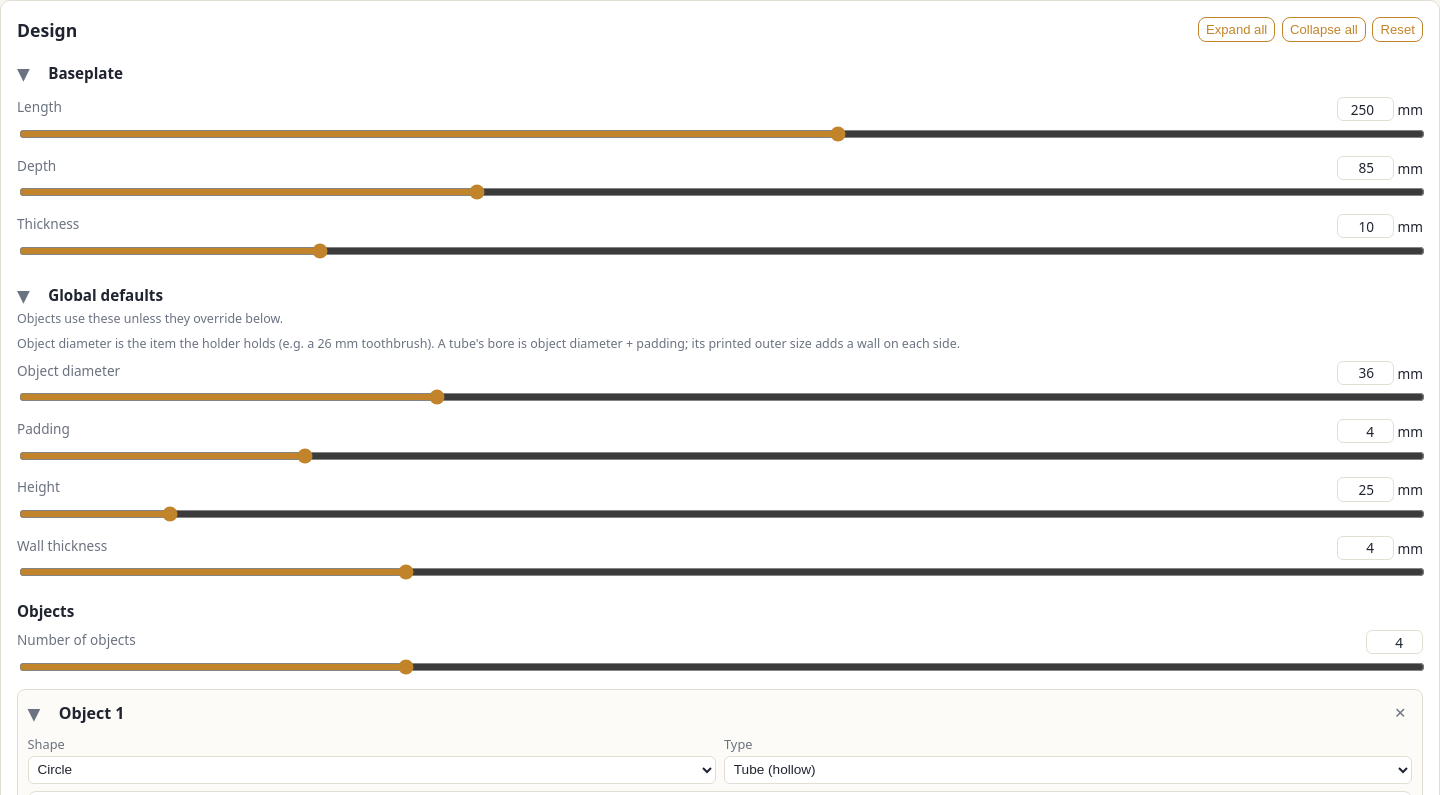
ParameterControls collapsing › Collapse all closes every panel, and panels can reopen individually
Click the button "Collapse all": click(1324, 30) [1282,17,1366,42]
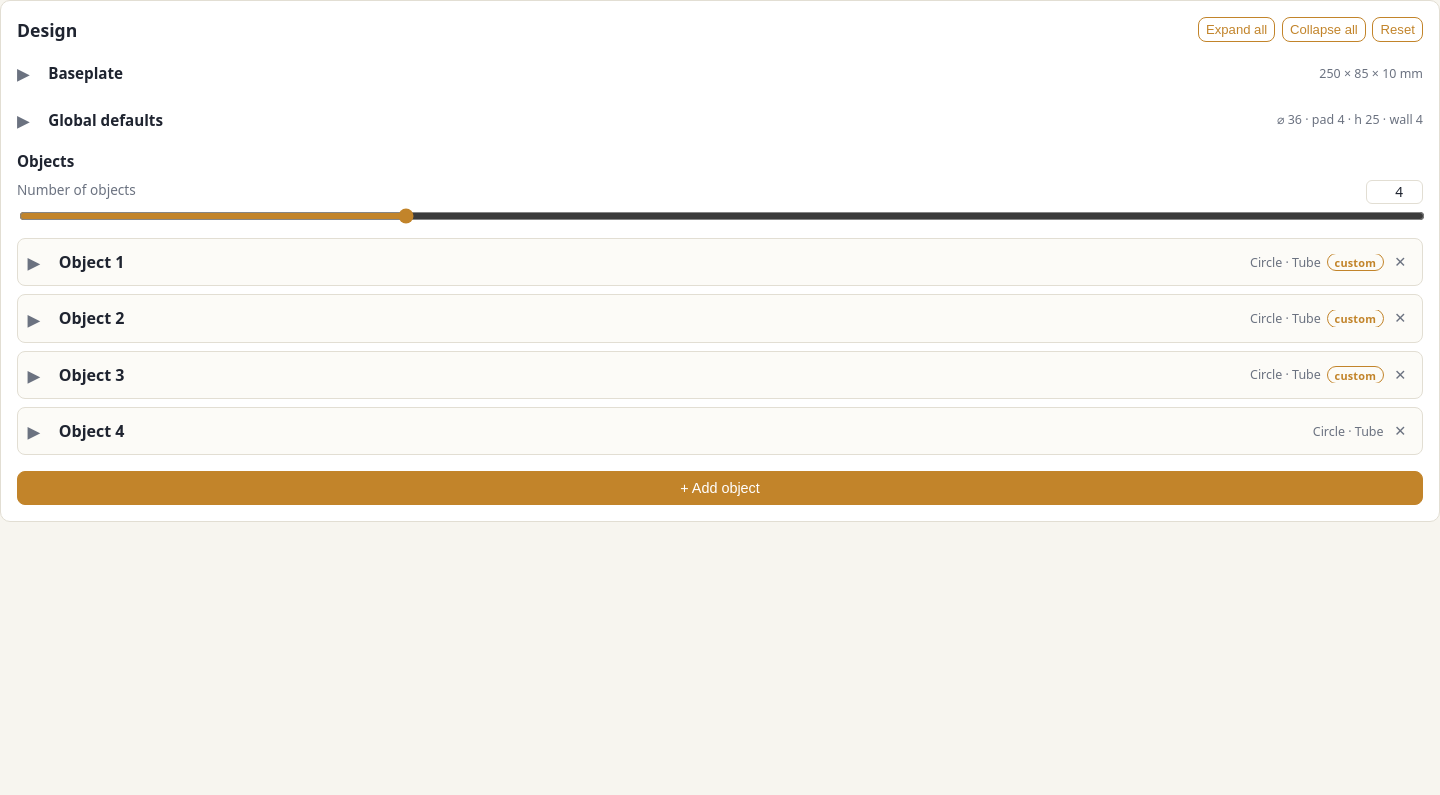
Expected: the field labelled "Length" is gone
// A single panel can still be reopened afterwards.
Click the button "▸ Baseplate 250 × 85 × 10 mm": click(86, 73) [17,58,1423,88]
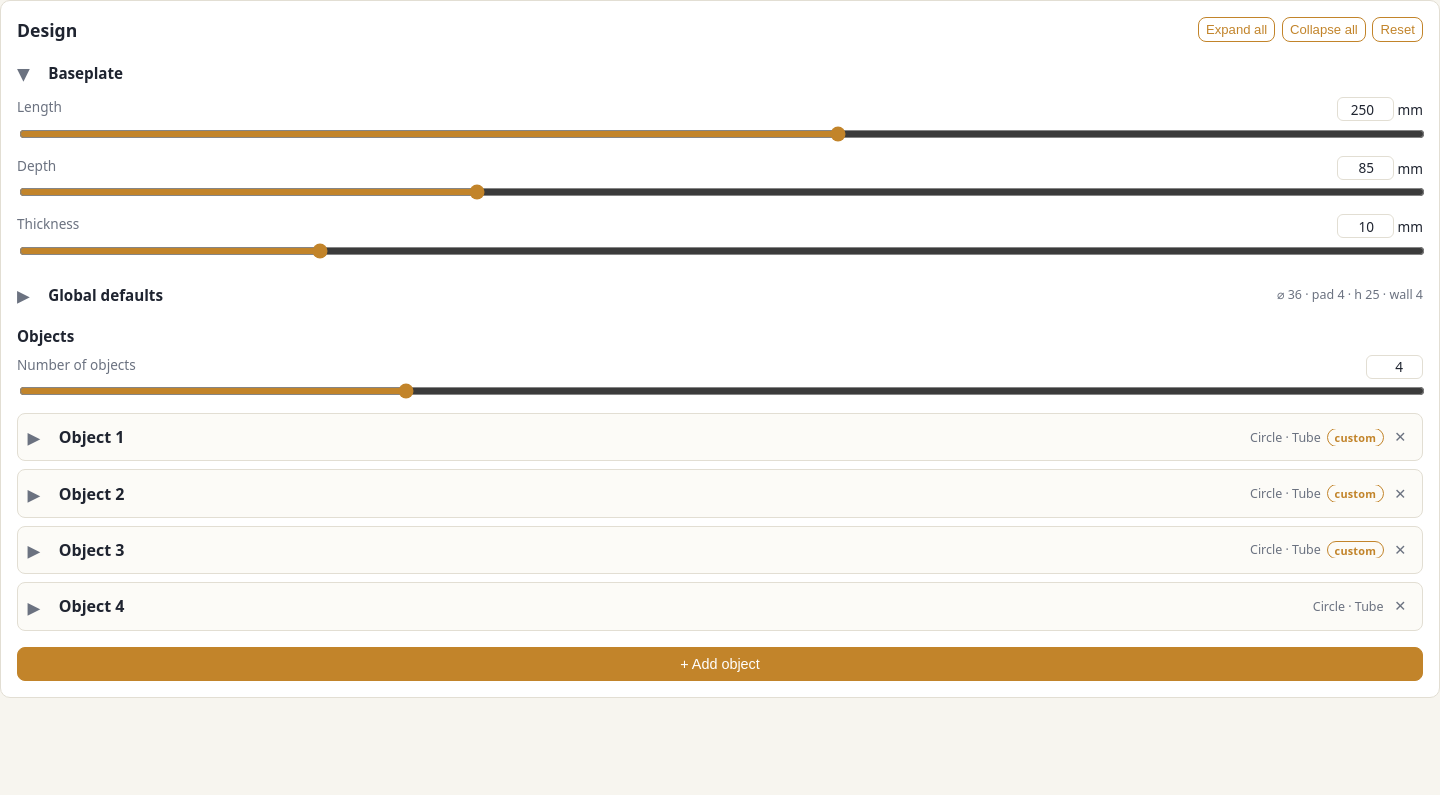
Expected: the number field named "Length" is shown, [1337,97,1394,121]
